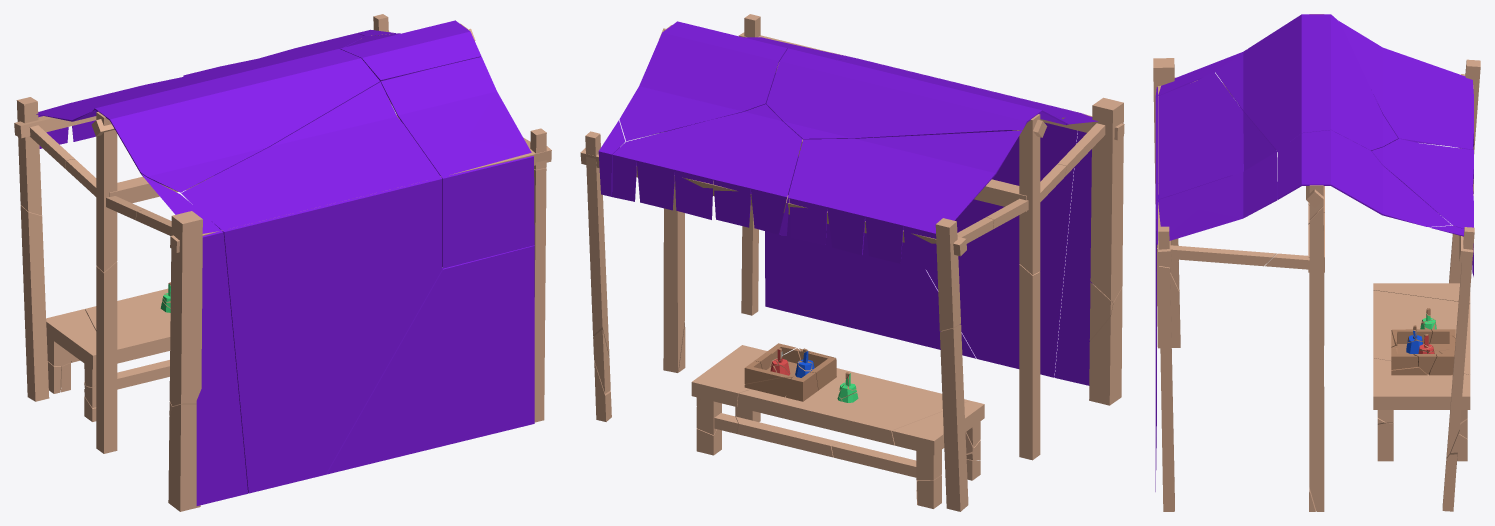
The model's file is Market_Broken.fbx.
3 views of the same model, side by side, from view 1: azimuth 30°, elevation 25°; view 2: azimuth 150°, elevation 25°; view 3: azimuth 270°, elevation 25° (orthographic). The views are drawn at different scales.
Parts seen in each view (by area): view 1: MarketLabel_cell.009, MarketLabel_cell.005, MarketLabel_cell.002, MarketLabel_cell.008, MarketLabel_cell, MarketBase_cell.022, MarketLabel_cell.006, MarketBase_cell.008, MarketBase_cell.001, Desk.001_cell.001, MarketBase_cell.018, MarketBase_cell.005 (+9 smaller); view 2: MarketLabel_cell.011, MarketLabel_cell.009, MarketLabel_cell.004, MarketLabel_cell.002, MarketLabel_cell.005, MarketLabel_cell.006, Desk.001_cell.001, MarketLabel_cell, MarketBase_cell.022, MarketBase_cell.001, MarketBase_cell.008, MarketBase_cell.013 (+21 smaller); view 3: MarketLabel_cell.002, MarketLabel_cell.009, MarketLabel_cell.011, MarketLabel_cell.006, MarketLabel_cell.008, MarketLabel_cell.004, MarketBase_cell.013, Desk.001_cell.001, Desk.001_cell.002, MarketBase_cell.018, MarketBase_cell.035, MarketBase_cell.028 (+13 smaller).
Boxes of the visible parts, left/top/right/bottom form: MarketLabel_cell.009: left=181, top=82, right=442, bottom=493; MarketLabel_cell.005: left=326, top=245, right=534, bottom=474; MarketLabel_cell.002: left=92, top=48, right=380, bottom=192; MarketLabel_cell.008: left=380, top=57, right=534, bottom=268; MarketLabel_cell: left=141, top=174, right=247, bottom=505; MarketBase_cell.022: left=169, top=211, right=202, bottom=406; MarketLabel_cell.006: left=340, top=20, right=481, bottom=81; MarketBase_cell.008: left=20, top=205, right=49, bottom=401; MarketBase_cell.001: left=96, top=261, right=117, bottom=453; Desk.001_cell.001: left=85, top=288, right=170, bottom=363; MarketBase_cell.018: left=534, top=168, right=546, bottom=422; MarketBase_cell.005: left=168, top=404, right=200, bottom=511; MarketLabel_cell.011: left=779, top=130, right=1022, bottom=272; MarketLabel_cell.009: left=837, top=58, right=1078, bottom=377; MarketLabel_cell.004: left=612, top=104, right=802, bottom=234; MarketLabel_cell.002: left=766, top=48, right=1066, bottom=139; MarketLabel_cell.005: left=765, top=156, right=975, bottom=358; MarketLabel_cell.006: left=619, top=21, right=787, bottom=141; Desk.001_cell.001: left=737, top=368, right=969, bottom=445; MarketLabel_cell: left=1054, top=113, right=1097, bottom=385; MarketBase_cell.022: left=1090, top=97, right=1123, bottom=301; MarketBase_cell.001: left=1019, top=264, right=1040, bottom=460; MarketBase_cell.008: left=940, top=324, right=968, bottom=511; MarketBase_cell.013: left=663, top=186, right=684, bottom=372; MarketLabel_cell.002: left=1215, top=14, right=1397, bottom=151; MarketLabel_cell.009: left=1155, top=72, right=1276, bottom=200; MarketLabel_cell.011: left=1338, top=20, right=1473, bottom=149; MarketLabel_cell.006: left=1277, top=130, right=1451, bottom=226; MarketLabel_cell.008: left=1155, top=151, right=1277, bottom=329; MarketLabel_cell.004: left=1371, top=138, right=1473, bottom=269; MarketBase_cell.013: left=1309, top=207, right=1324, bottom=511; Desk.001_cell.001: left=1373, top=290, right=1470, bottom=374; Desk.001_cell.002: left=1373, top=358, right=1470, bottom=409; MarketBase_cell.018: left=1159, top=266, right=1174, bottom=511; MarketBase_cell.035: left=1446, top=227, right=1474, bottom=458; MarketBase_cell.028: left=1170, top=245, right=1276, bottom=266.
Bounding box in the file's own units: 1.4 × 1.2 × 1.09.
